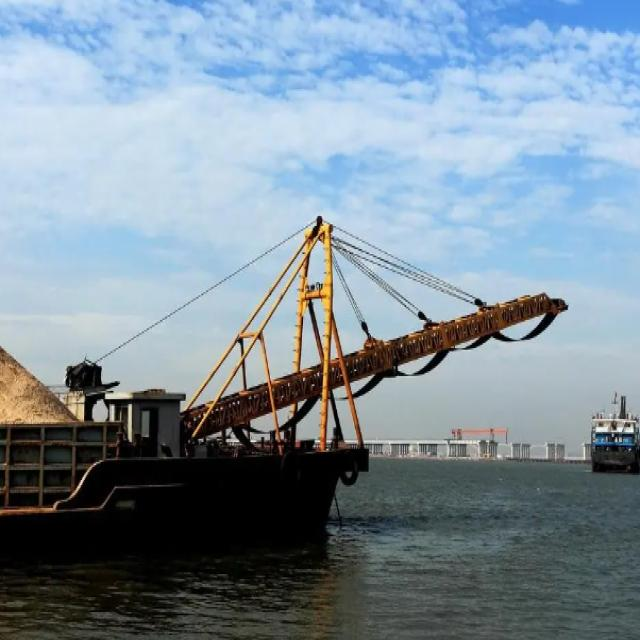fishing boat: (588, 373, 640, 465)
